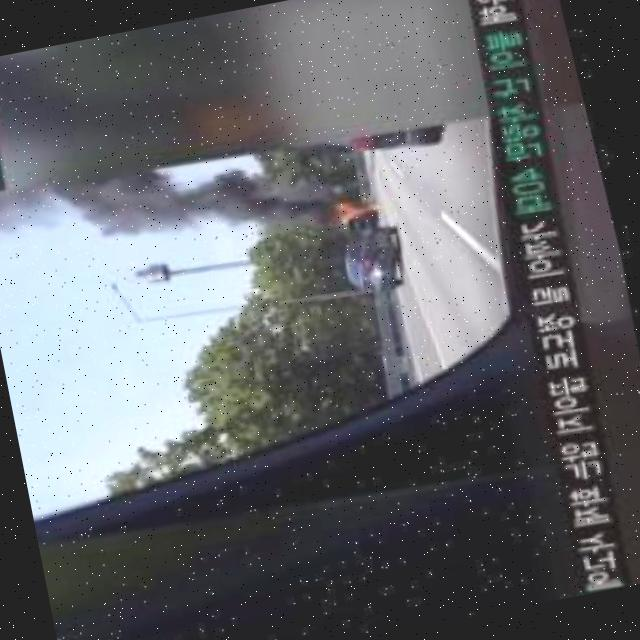fire: (328, 190, 388, 236)
